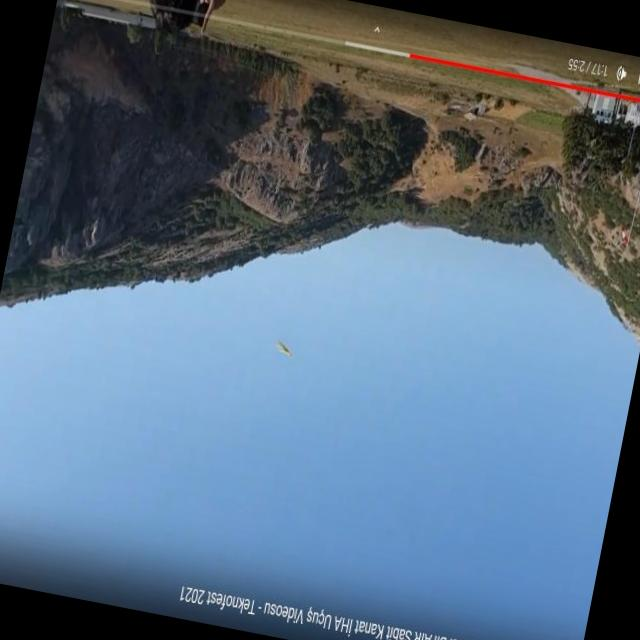UAV: (256, 319, 304, 365)
